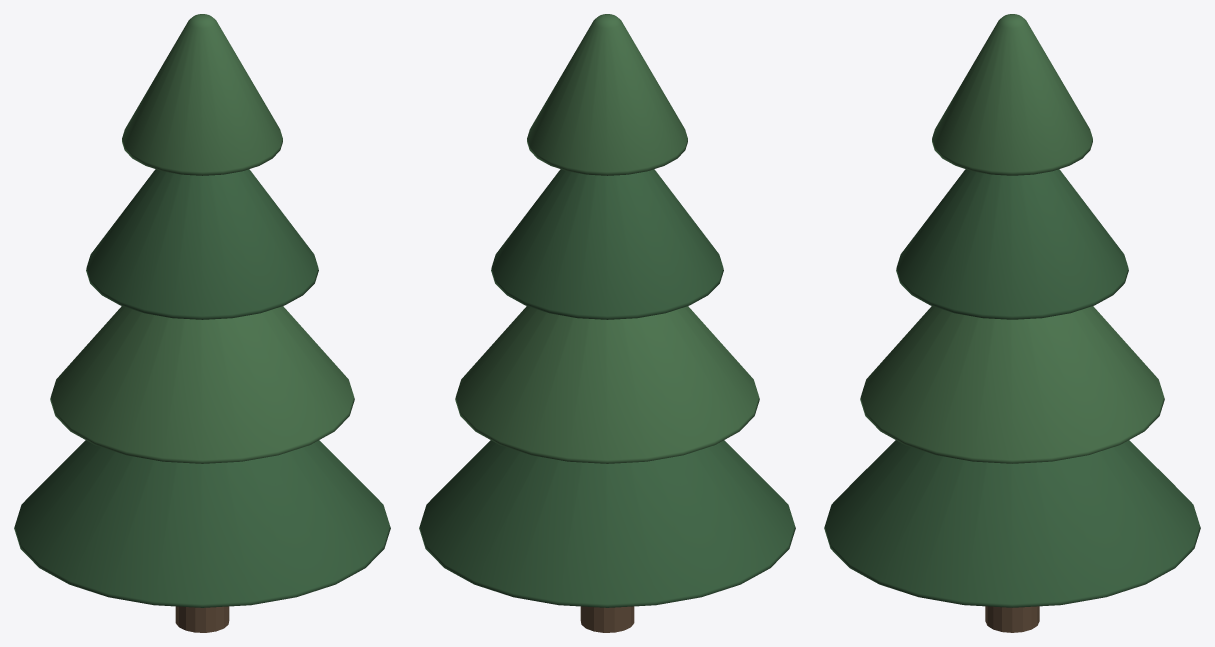
File: Nature_StylizedPine_Hybrid.glb
3 views of the same model, side by side, from view 1: azimuth 30°, elevation 25°; view 2: azimuth 150°, elevation 25°; view 3: azimuth 270°, elevation 25° (orthographic).
Visible parts, largest first — view 1: Cone, Cone.001, Cone.002, Cone.003, Cylinder; view 2: Cone, Cone.001, Cone.002, Cone.003, Cylinder; view 3: Cone, Cone.001, Cone.002, Cone.003, Cylinder.
Boxes of the visible parts, <box> form: Cone: <box>14,440,390,607</box>; Cone.001: <box>50,306,354,463</box>; Cone.002: <box>86,169,318,319</box>; Cone.003: <box>122,14,282,175</box>; Cylinder: <box>175,606,229,632</box>; Cone: <box>419,440,795,607</box>; Cone.001: <box>455,306,759,463</box>; Cone.002: <box>491,169,723,319</box>; Cone.003: <box>527,14,687,175</box>; Cylinder: <box>580,606,634,632</box>; Cone: <box>824,440,1200,607</box>; Cone.001: <box>860,306,1164,463</box>; Cone.002: <box>896,169,1128,319</box>; Cone.003: <box>932,14,1092,175</box>; Cylinder: <box>985,606,1039,632</box>.
Size of the model in its own units: 3.34 by 5.92 by 3.34.
